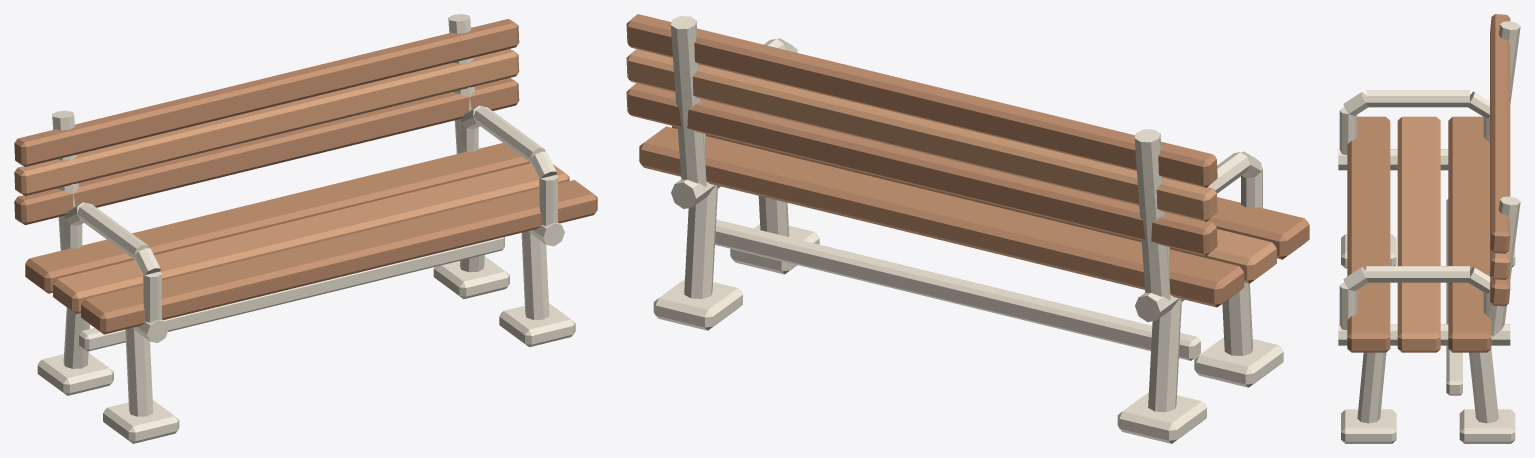
The model's file is bench.glb.
3 renders of one model, left to right at view 1: azimuth 30°, elevation 25°; view 2: azimuth 150°, elevation 25°; view 3: azimuth 270°, elevation 25°, orthographic. The views are drawn at different scales.
Visible parts, largest first — view 1: ModelMesh; view 2: ModelMesh; view 3: ModelMesh.
Boxes of the visible parts, left/top/right/bottom form: ModelMesh: left=14, top=14, right=597, bottom=443; ModelMesh: left=626, top=14, right=1309, bottom=443; ModelMesh: left=1338, top=14, right=1520, bottom=443.
Size of the model in its own units: 2.06 by 1.02 by 0.7207.
